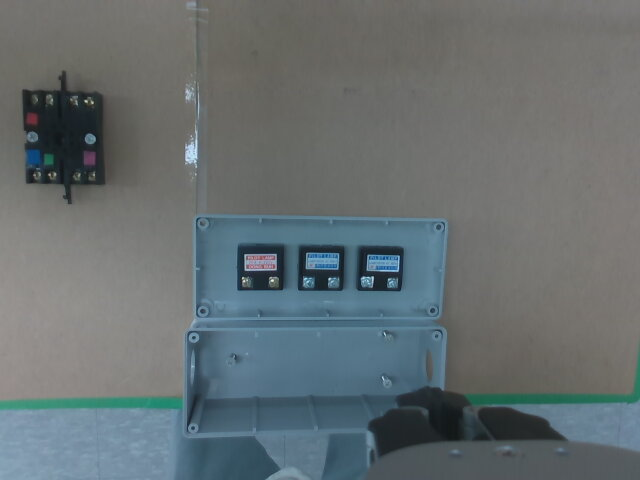L1(1): (241, 277, 253, 287)
L1(2): (267, 276, 279, 288)
L2(1): (303, 276, 314, 288)
L2(2): (328, 277, 339, 288)
L3(1): (362, 276, 373, 288)
L3(2): (387, 278, 397, 288)
